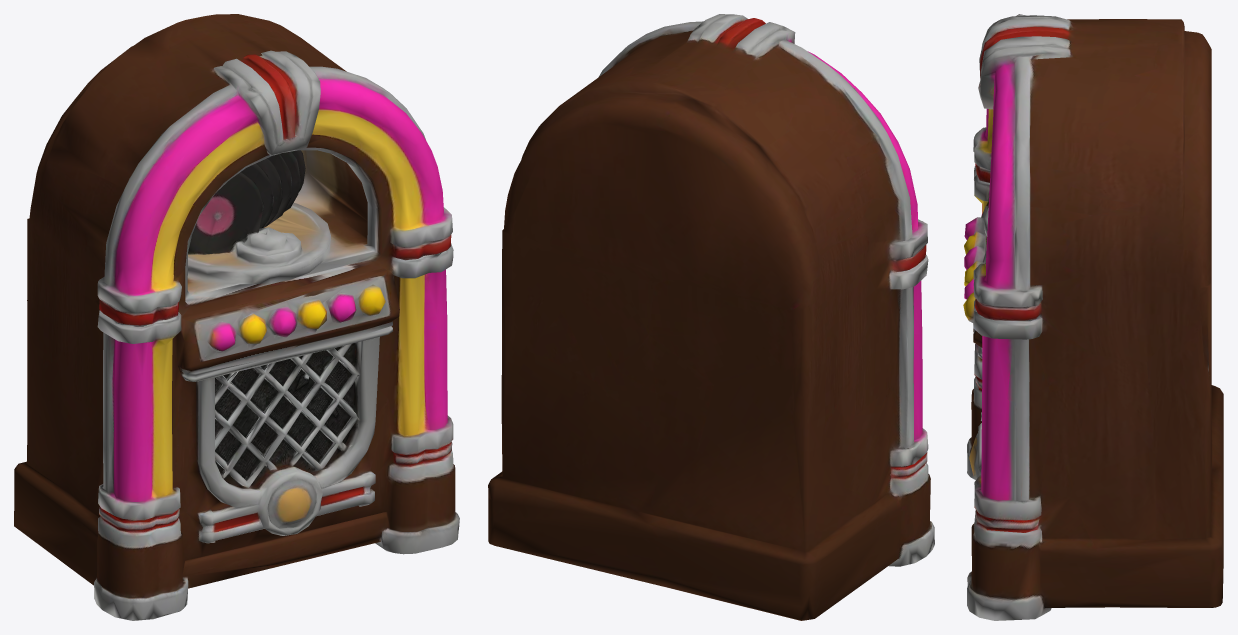
The model's file is jukebox.glb.
3 views of the same model, side by side, from view 1: azimuth 30°, elevation 25°; view 2: azimuth 150°, elevation 25°; view 3: azimuth 270°, elevation 25° (orthographic). The views are drawn at different scales.
Visible parts, largest first — view 1: tripo_node_c723e9a7-5618-469d-a8f8-5e0b28dddf64; view 2: tripo_node_c723e9a7-5618-469d-a8f8-5e0b28dddf64; view 3: tripo_node_c723e9a7-5618-469d-a8f8-5e0b28dddf64.
Boxes of the visible parts, x1=… form: tripo_node_c723e9a7-5618-469d-a8f8-5e0b28dddf64: x1=14, y1=14, x2=459, y2=620; tripo_node_c723e9a7-5618-469d-a8f8-5e0b28dddf64: x1=488, y1=14, x2=934, y2=620; tripo_node_c723e9a7-5618-469d-a8f8-5e0b28dddf64: x1=963, y1=14, x2=1223, y2=620.
Bounding box in the file's own units: 0.7206 × 0.9797 × 0.4564.
Materials: 1 (1 with a texture image).
